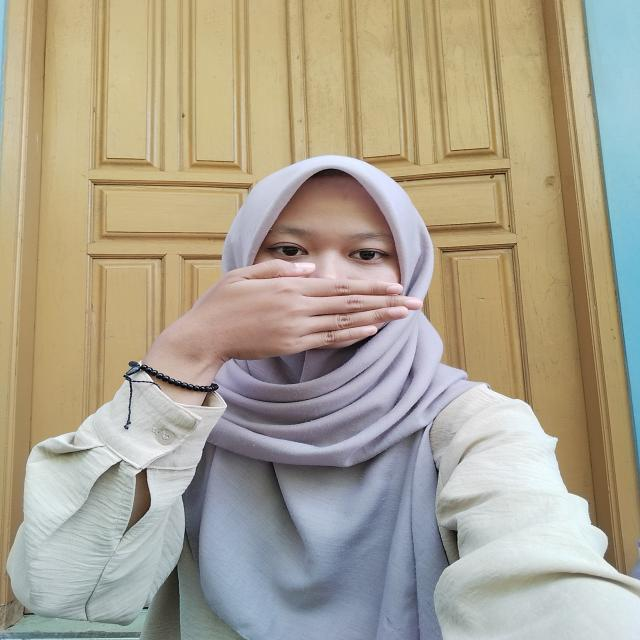buruk: (168, 248, 417, 364)
